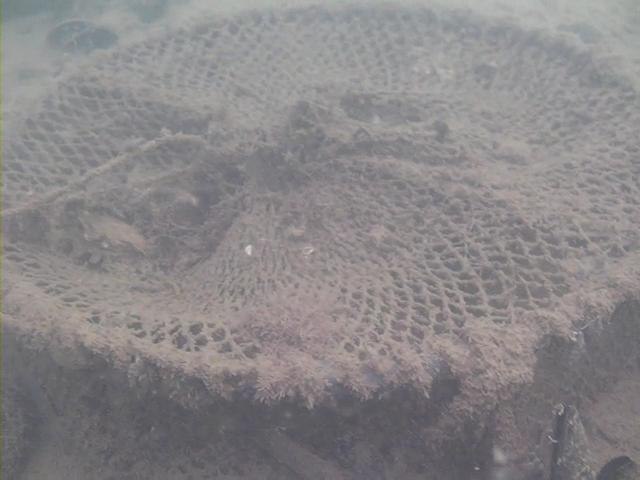circular fish trap: (0, 0, 640, 480)
